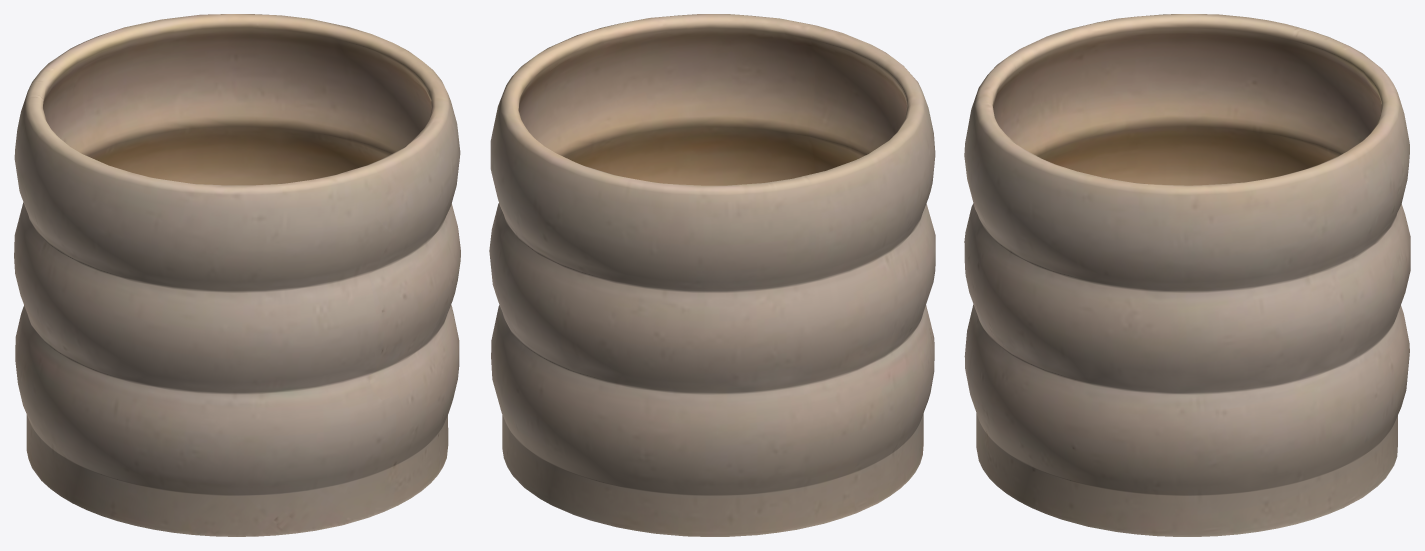
3 views of the same model, side by side, from view 1: azimuth 30°, elevation 25°; view 2: azimuth 150°, elevation 25°; view 3: azimuth 270°, elevation 25° (orthographic).
Parts seen in each view (by area): view 1: ASY_ART_40621823_S01_NV01; view 2: ASY_ART_40621823_S01_NV01; view 3: ASY_ART_40621823_S01_NV01.
Boxes of the visible parts, left/top/right/bottom form: ASY_ART_40621823_S01_NV01: left=14, top=14, right=460, bottom=536; ASY_ART_40621823_S01_NV01: left=489, top=14, right=935, bottom=536; ASY_ART_40621823_S01_NV01: left=964, top=14, right=1410, bottom=536.
Bounding box in the file's own units: 0.2441 × 0.2092 × 0.2437.
1 material, 1 textured.
